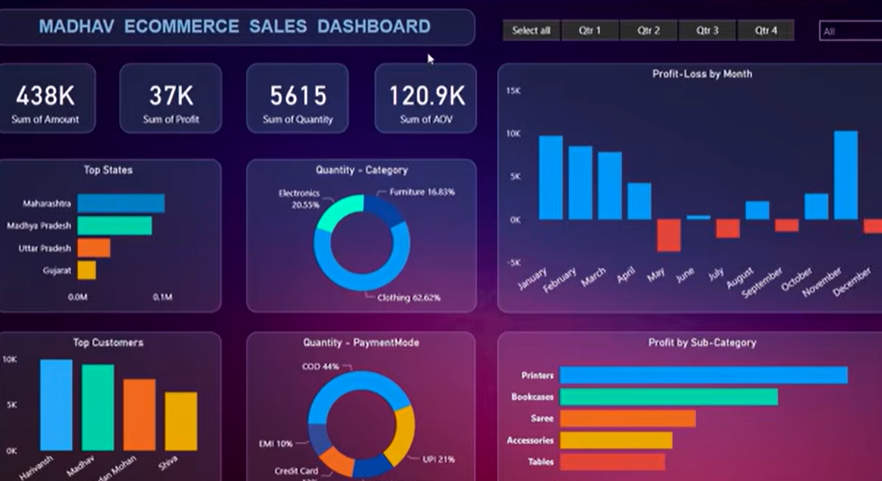

The page's visual inventory and layout, read from the dashboard file:
{"tool":"powerbi","page":{"name":"Page 1","canvas":[1920,1080],"ordinal":0},"visuals":[{"type":"textbox","box":[26.4,22.6,590.7,51.5],"z":0},{"type":"columnChart","title":"Profit by Month","fields":{"Category":["Orders.Order Date.Variation.Date Hierarchy.Month"],"Y":["Sum(Details.Profit)"]},"box":[1117.6,209.2,761.4,384.5],"z":1000},{"type":"barChart","title":"Sum of Profit by Sub Category","fields":{"Category":["Details.Sub-Category"],"Y":["Sum(Details.Profit)"]},"box":[1118.3,608.1,760.6,376.5],"z":2000},{"type":"donutChart","fields":{"Category":["Details.Category"],"Y":["Sum(Details.Quantity)"]},"box":[530.9,295.6,519.6,312.5],"z":3000},{"type":"donutChart","fields":{"Category":["Details.PaymentMode"],"Y":["Sum(Details.Quantity)"]},"box":[547.9,643.9,502.7,340.8],"z":3001},{"type":"cardVisual","title":"Sum of amount","fields":{"Data":["Sum(Details.Amount)"]},"box":[26.4,141.2,188.3,135.6],"z":3002},{"type":"cardVisual","title":"Sum  of profit","fields":{"Data":["Sum(Details.Profit)"]},"box":[235.3,141.2,175.1,135.6],"z":3003},{"type":"cardVisual","title":"Sum  of  Quantity","fields":{"Data":["Sum(Details.Quantity)"]},"box":[442.4,141.2,175.1,135.6],"z":3004},{"type":"cardVisual","title":"Sum of AOV","fields":{"Data":["Sum(Details.AOV)"]},"box":[655.2,141.2,163.8,135.6],"z":3005},{"type":"barChart","title":"Sum of Profit by Sub Category","fields":{"Category":["Orders.State"],"Y":["Sum(Details.Amount)"]},"box":[26.4,293.7,483.9,314.4],"z":3006},{"type":"columnChart","fields":{"Category":["Orders.CustomerName"],"Y":["Sum(Details.Amount)"]},"box":[26.4,643.9,483.9,325.7],"z":3007},{"type":"advancedSlicerVisual","fields":{"Values":["Orders.Order Date.Variation.Date Hierarchy.Quarter"]},"box":[848.1,22.6,763.3,150.8],"z":3008}]}

Visuals, with their boxes on the page's 1920x1080 design canvas (x1, y1, x2, y2). These are canvas units, not pixel positions in the 882x481 screenshot, which may show the page scaled, cropped or inside an application window:
textbox: {"left": 26, "top": 23, "right": 617, "bottom": 74}
"Profit by Month" columnChart: {"left": 1118, "top": 209, "right": 1879, "bottom": 594}
"Sum of Profit by Sub Category" barChart: {"left": 1118, "top": 608, "right": 1879, "bottom": 985}
donutChart - Details.Category x Sum(Details.Quantity): {"left": 531, "top": 296, "right": 1050, "bottom": 608}
donutChart - Details.PaymentMode x Sum(Details.Quantity): {"left": 548, "top": 644, "right": 1051, "bottom": 985}
"Sum of amount" cardVisual: {"left": 26, "top": 141, "right": 215, "bottom": 277}
"Sum  of profit" cardVisual: {"left": 235, "top": 141, "right": 410, "bottom": 277}
"Sum  of  Quantity" cardVisual: {"left": 442, "top": 141, "right": 618, "bottom": 277}
"Sum of AOV" cardVisual: {"left": 655, "top": 141, "right": 819, "bottom": 277}
"Sum of Profit by Sub Category" barChart: {"left": 26, "top": 294, "right": 510, "bottom": 608}
columnChart - Orders.CustomerName x Sum(Details.Amount): {"left": 26, "top": 644, "right": 510, "bottom": 970}
advancedSlicerVisual - Orders.Order Date.Variation.Date Hierarchy.Quarter: {"left": 848, "top": 23, "right": 1611, "bottom": 173}
